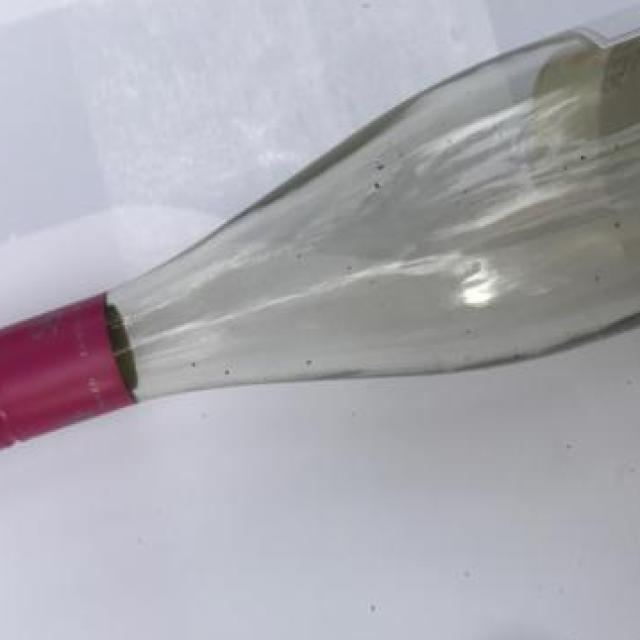organic: (5, 4, 640, 467)
